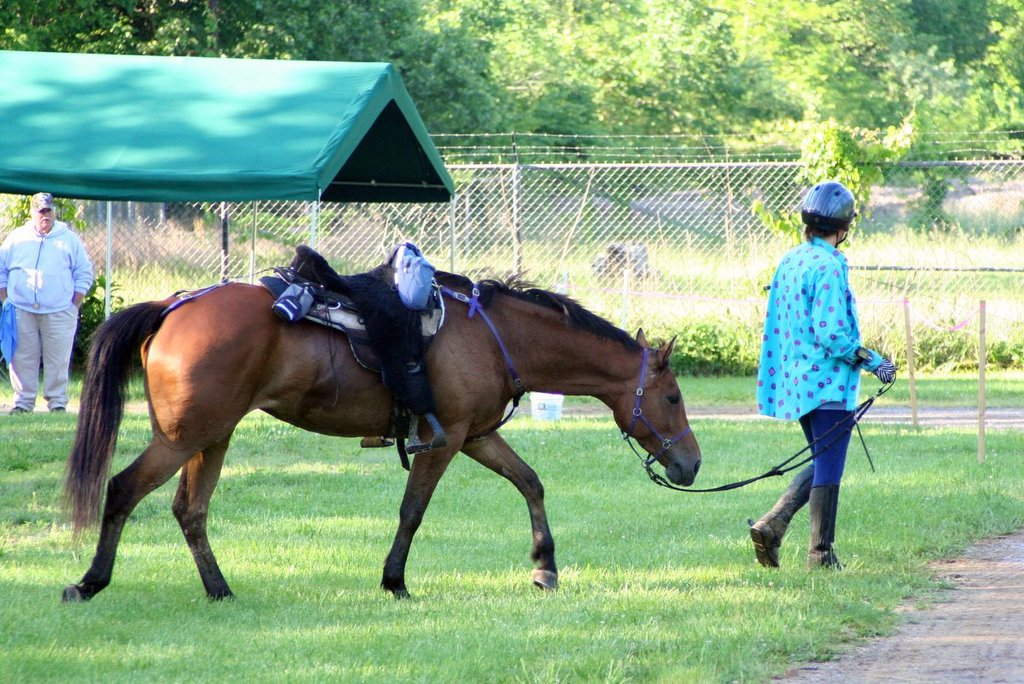horse: (55, 240, 702, 605)
